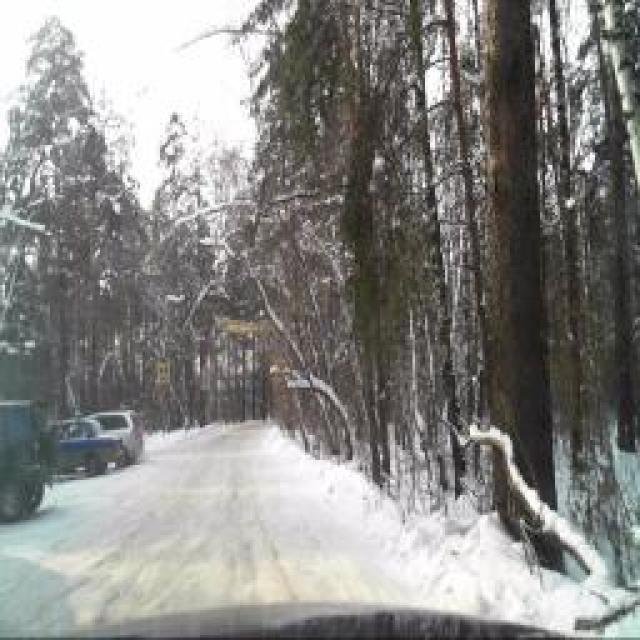sign: (158, 363, 170, 385)
